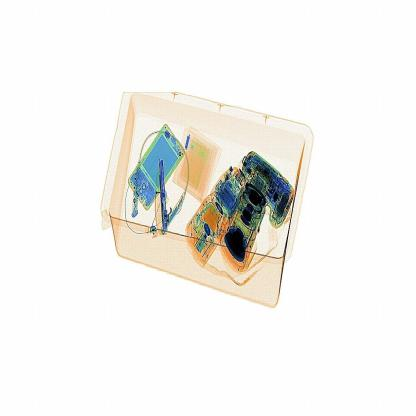pliers: (154, 157, 171, 234)
